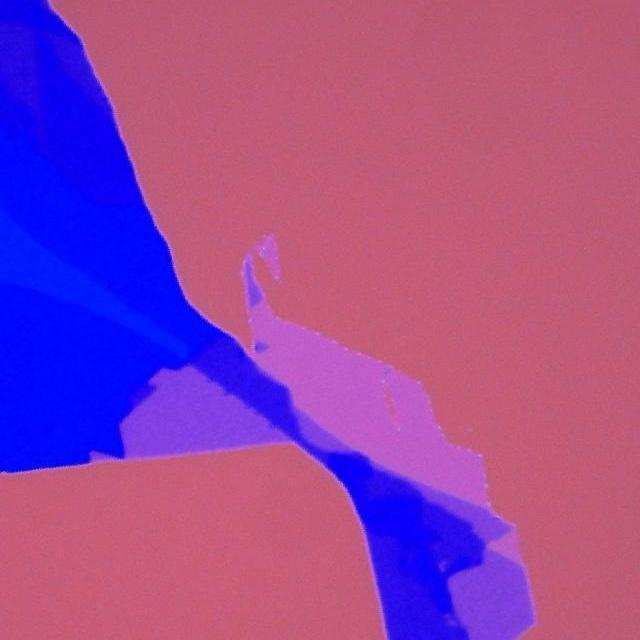monolayer-eWW4: (248, 302, 488, 508)
